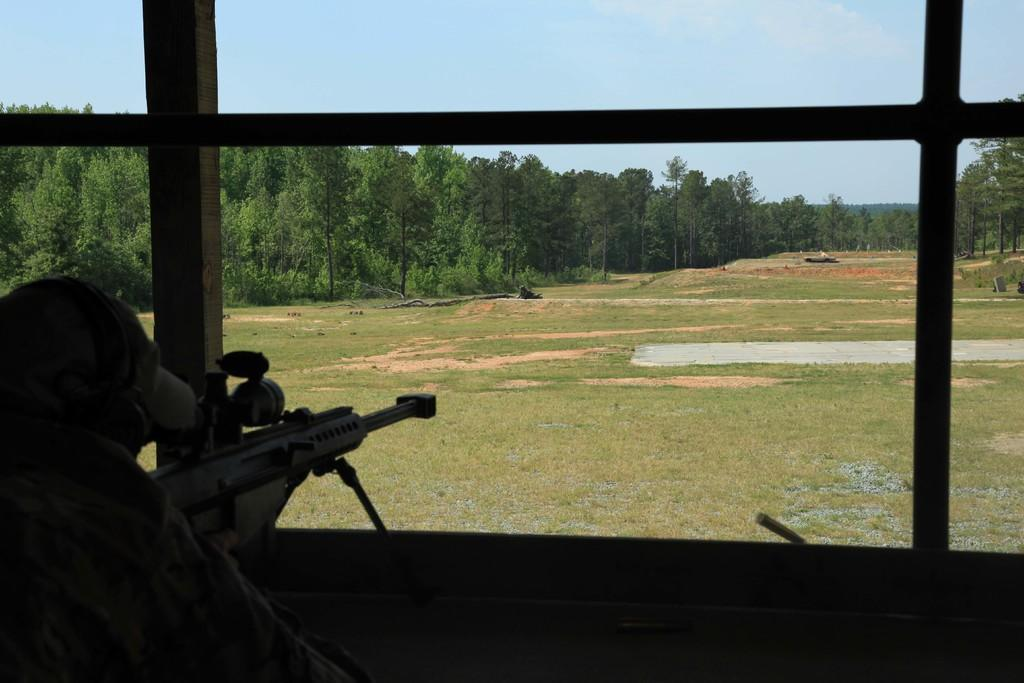gun: (147, 352, 439, 530)
